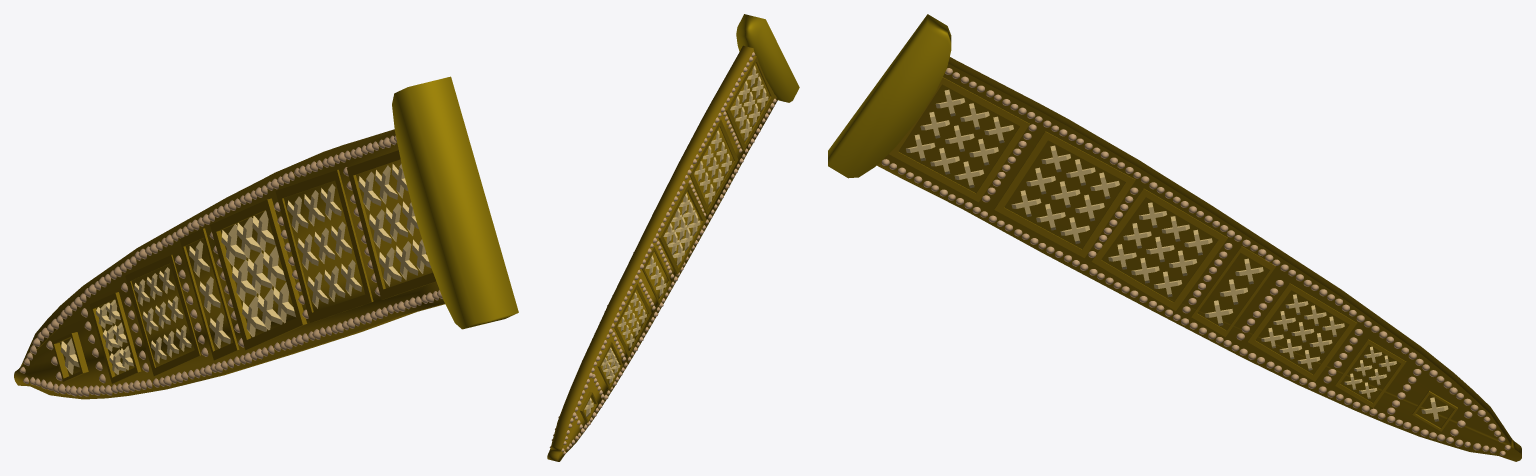
Rendered from Fourreau.glb.
The picture shows the model from 3 angles, left to right: view 1: azimuth 30°, elevation 25°; view 2: azimuth 150°, elevation 25°; view 3: azimuth 270°, elevation 25°; orthographic projection. The views are drawn at different scales.
Parts seen in each view (by area): view 1: Cube, Cube.001, Cube.075, Cube.074, Cube.055, Cube.098, Cube.088, Cube.099, Sphere.096, Sphere.081, Cube.106, Sphere.117 (+6 smaller); view 2: Cube, Cube.001, Cube.075, Cube.055, Cube.074, Cube.098, Cube.088, Sphere.096, Cube.099, Sphere.081; view 3: Cube, Cube.001, Cube.012, Cube.031, Cube.011, Cube.033, Sphere.096, Cube.032, Sphere.081, Cube.053, Sphere.117.
Boxes of the visible parts, box(x1,y1,x2,y2) form: Cube: box(14, 129, 444, 399); Cube.001: box(392, 76, 518, 329); Cube.075: box(210, 198, 307, 350); Cube.074: box(275, 169, 373, 322); Cube.055: box(346, 150, 436, 299); Cube.098: box(125, 255, 200, 376); Cube.088: box(179, 228, 239, 360); Cube.099: box(89, 292, 141, 383); Sphere.096: box(214, 320, 348, 372); Sphere.081: box(346, 290, 442, 328); Cube.106: box(52, 332, 88, 381); Sphere.117: box(132, 363, 216, 390); Cube: box(547, 45, 778, 461); Cube.001: box(736, 14, 799, 102); Cube.075: box(658, 183, 706, 274); Cube.055: box(725, 56, 774, 150); Cube.074: box(689, 119, 738, 215); Cube.098: box(614, 283, 651, 356); Cube.088: box(642, 246, 671, 304); Sphere.096: box(659, 189, 725, 307); Cube.099: box(597, 341, 622, 389); Sphere.081: box(725, 98, 776, 188); Cube: box(877, 57, 1521, 461); Cube.001: box(828, 14, 951, 178); Cube.012: box(994, 131, 1135, 257); Cube.031: box(1091, 188, 1227, 310); Cube.011: box(889, 77, 1029, 202); Cube.033: box(1247, 283, 1356, 381); Sphere.096: box(1030, 238, 1223, 343); Cube.032: box(1191, 246, 1275, 336); Sphere.081: box(881, 159, 1029, 239); Cube.053: box(1335, 339, 1406, 407); Sphere.117: box(1223, 340, 1343, 400).
Bounding box in the file's own units: 0.1659 × 2.19 × 3.15.
